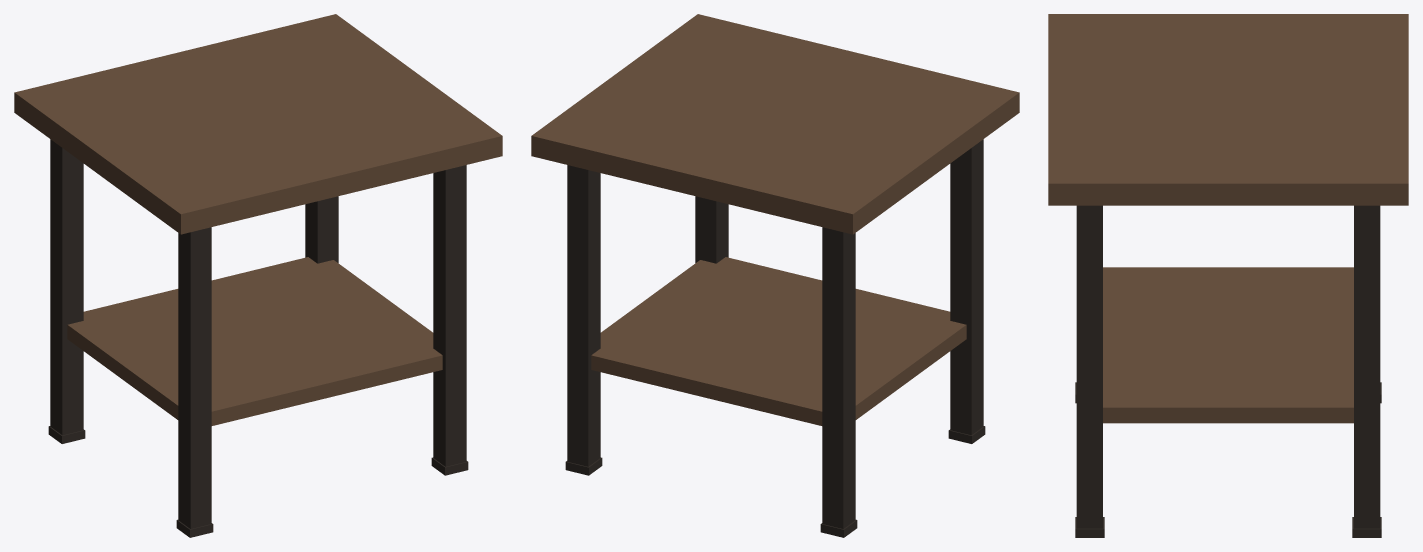
3 views of the same model, side by side, from view 1: azimuth 30°, elevation 25°; view 2: azimuth 150°, elevation 25°; view 3: azimuth 270°, elevation 25° (orthographic). The views are drawn at different scales.
Bounding box in the file's own units: 0.58 × 0.5825 × 0.52.
